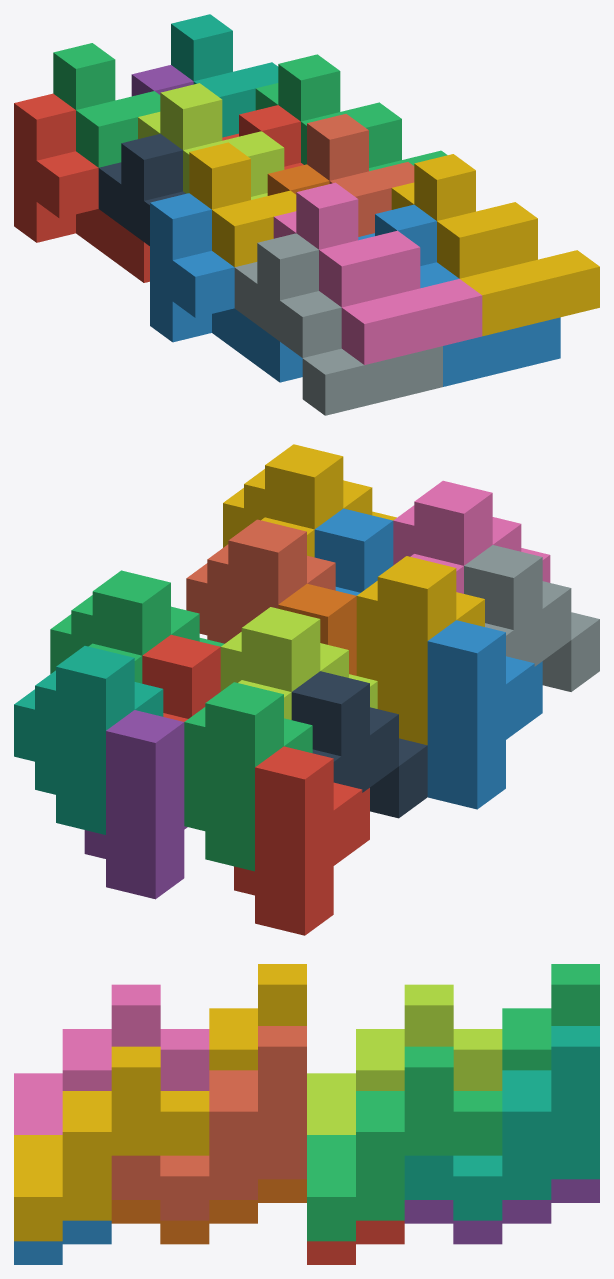
File: tiling.obj
3 renders of one model, top to bottom at view 1: azimuth 30°, elevation 25°; view 2: azimuth 150°, elevation 25°; view 3: azimuth 270°, elevation 25°, orthographic. The views are drawn at different scales.
Visible parts, largest first — view 1: copy_2_domain_4, copy_2_domain_8, copy_2_domain_2, copy_1_domain_2, copy_1_domain_1, copy_2_domain_6, copy_1_domain_3, copy_1_domain_4, copy_2_domain_7, copy_2_domain_3, copy_1_domain_7, copy_1_domain_8 (+4 smaller); view 2: copy_1_domain_1, copy_1_domain_2, copy_1_domain_7, copy_1_domain_5, copy_1_domain_3, copy_1_domain_4, copy_2_domain_1, copy_2_domain_2, copy_1_domain_8, copy_2_domain_7, copy_2_domain_8, copy_2_domain_3 (+4 smaller); view 3: copy_2_domain_8, copy_2_domain_7, copy_1_domain_7, copy_1_domain_8, copy_2_domain_4, copy_2_domain_3, copy_1_domain_3, copy_1_domain_4, copy_1_domain_5, copy_1_domain_6, copy_2_domain_6, copy_2_domain_5.
Boxes of the visible parts, left/top/right/bottom form: copy_2_domain_4: left=273, top=182, right=482, bottom=364; copy_2_domain_8: left=391, top=154, right=599, bottom=336; copy_2_domain_2: left=234, top=233, right=442, bottom=415; copy_1_domain_2: left=150, top=193, right=302, bottom=382; copy_1_domain_1: left=14, top=93, right=149, bottom=282; copy_2_domain_6: left=358, top=204, right=560, bottom=386; copy_1_domain_3: left=53, top=43, right=160, bottom=167; copy_1_domain_4: left=189, top=142, right=296, bottom=267; copy_2_domain_7: left=255, top=54, right=447, bottom=171; copy_2_domain_3: left=138, top=83, right=284, bottom=199; copy_1_domain_7: left=171, top=14, right=278, bottom=137; copy_1_domain_8: left=307, top=114, right=414, bottom=236; copy_1_domain_1: left=234, top=746, right=369, bottom=935; copy_1_domain_2: left=427, top=620, right=542, bottom=809; copy_1_domain_7: left=14, top=646, right=163, bottom=834; copy_1_domain_5: left=84, top=710, right=187, bottom=899; copy_1_domain_3: left=184, top=682, right=312, bottom=871; copy_1_domain_4: left=356, top=556, right=484, bottom=745; copy_2_domain_1: left=291, top=671, right=427, bottom=818; copy_2_domain_2: left=464, top=545, right=599, bottom=691; copy_1_domain_8: left=186, top=519, right=335, bottom=643; copy_2_domain_7: left=50, top=570, right=224, bottom=683; copy_2_domain_8: left=223, top=444, right=396, bottom=557; copy_2_domain_3: left=220, top=607, right=377, bottom=719; copy_2_domain_8: left=14, top=1046, right=209, bottom=1241; copy_2_domain_7: left=307, top=1046, right=502, bottom=1241; copy_1_domain_7: left=404, top=1026, right=599, bottom=1220; copy_1_domain_8: left=111, top=1026, right=306, bottom=1220; copy_2_domain_4: left=14, top=984, right=209, bottom=1134; copy_2_domain_3: left=307, top=984, right=502, bottom=1134; copy_1_domain_3: left=502, top=964, right=599, bottom=1070; copy_1_domain_4: left=209, top=964, right=306, bottom=1070; copy_1_domain_5: left=404, top=1179, right=599, bottom=1244; copy_1_domain_6: left=111, top=1179, right=306, bottom=1244; copy_2_domain_6: left=14, top=1220, right=111, bottom=1264; copy_2_domain_5: left=307, top=1220, right=404, bottom=1264.
Bounding box in the file's own units: 8 × 4 × 12.
